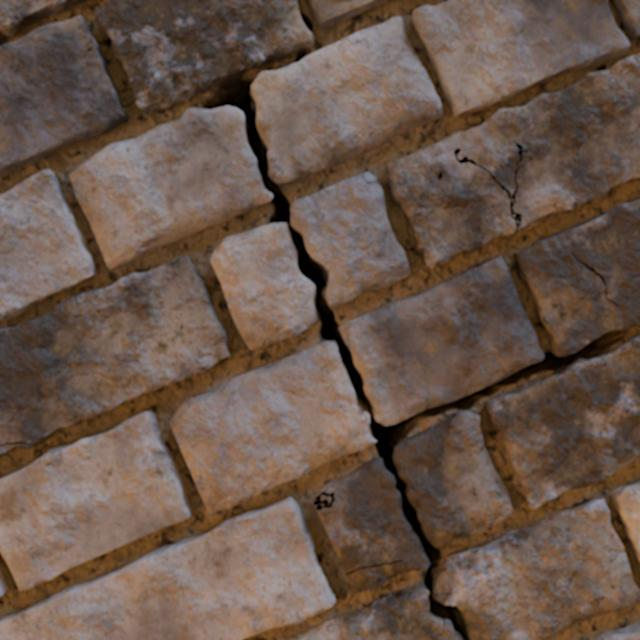broken_brick: (170, 341, 375, 513), (340, 256, 543, 425), (69, 106, 272, 269), (251, 16, 442, 184), (433, 499, 639, 639), (291, 172, 411, 307), (393, 411, 512, 547), (316, 457, 429, 593), (210, 223, 316, 348), (287, 584, 461, 639), (321, 496, 330, 501)
crack: (94, 0, 639, 639), (385, 54, 639, 268), (0, 496, 335, 639), (0, 256, 230, 456), (0, 410, 192, 590), (411, 0, 629, 117), (0, 15, 128, 175), (0, 169, 96, 322), (0, 0, 87, 36), (610, 482, 639, 562), (308, 0, 389, 28), (610, 0, 639, 39), (346, 559, 403, 575), (594, 621, 639, 639), (313, 491, 334, 509), (0, 563, 8, 596), (164, 231, 188, 242)
